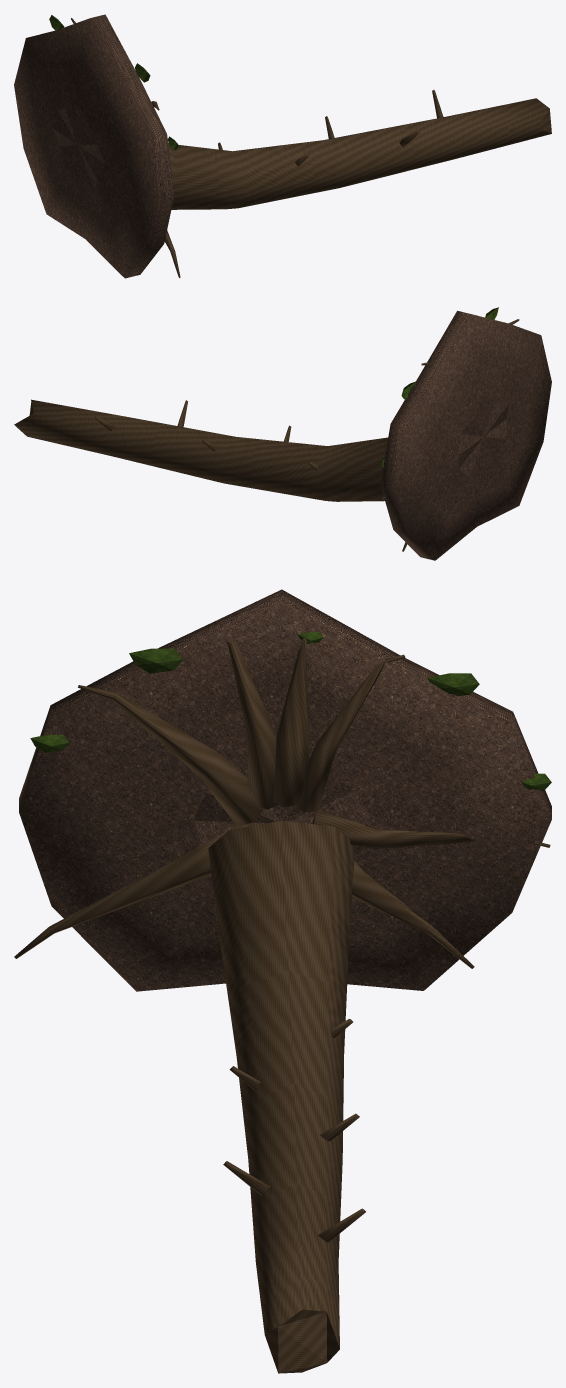
File: SS_WindthrowBase_Weathered_01_LOD2.fbx
The picture shows the model from 3 angles, top to bottom: view 1: azimuth 30°, elevation 25°; view 2: azimuth 150°, elevation 25°; view 3: azimuth 270°, elevation 25°; orthographic projection. The views are drawn at different scales.
Visible parts, largest first — view 1: SS_WindthrowBase_Weathered_01_LOD2_Structure; view 2: SS_WindthrowBase_Weathered_01_LOD2_Structure; view 3: SS_WindthrowBase_Weathered_01_LOD2_Structure.
Boxes of the visible parts, bbox=[...] form: SS_WindthrowBase_Weathered_01_LOD2_Structure: bbox=[14, 14, 551, 278]; SS_WindthrowBase_Weathered_01_LOD2_Structure: bbox=[14, 307, 551, 560]; SS_WindthrowBase_Weathered_01_LOD2_Structure: bbox=[14, 589, 551, 1373].
Bounding box in the file's own units: 554 × 260 × 313.
Materials: 4 (4 with a texture image).
